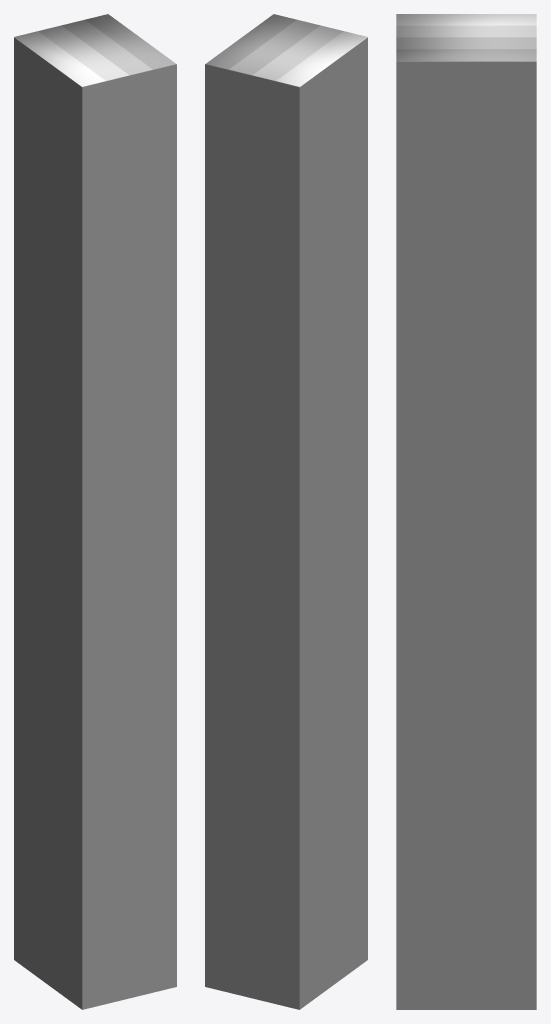
File: road02.FBX
3 views of the same model, side by side, from view 1: azimuth 30°, elevation 25°; view 2: azimuth 150°, elevation 25°; view 3: azimuth 270°, elevation 25° (orthographic). The views are drawn at different scales.
Visible parts, largest first — view 1: road02; view 2: road02; view 3: road02.
Boxes of the visible parts, x1,y1,x2,y2 form: road02: (14,14,176,1009); road02: (205,14,367,1009); road02: (396,14,536,1009).
Size of the model in its own units: 12 by 112 by 15.
1 material, 1 textured.
